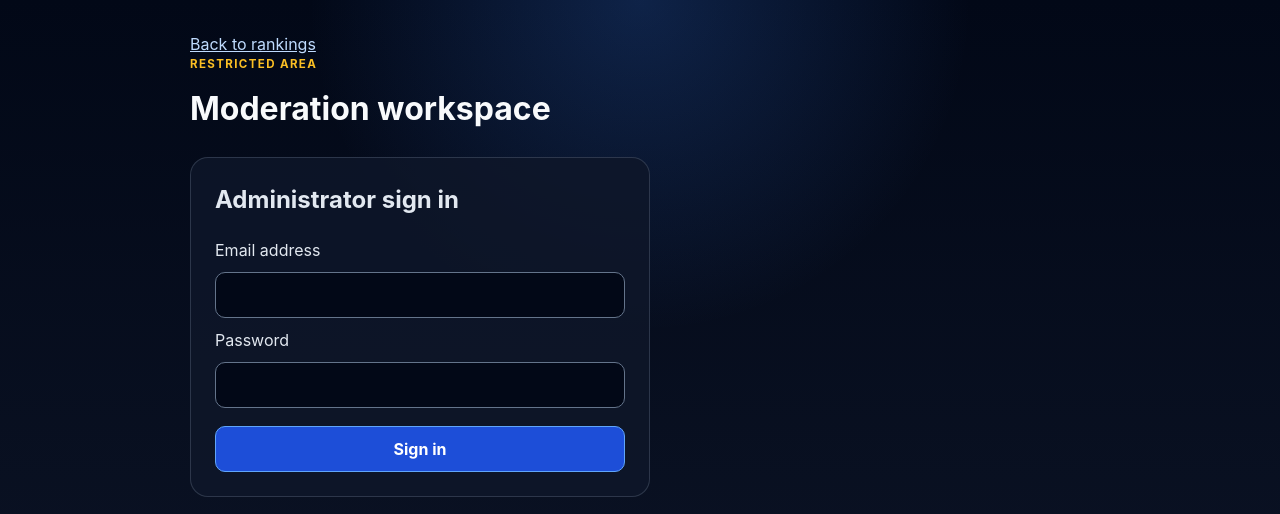
it: AdminPage › checks access again after a successful sign in
In the field labelled "Email address": [420, 295] box [215, 272, 625, 318], type "admin@example.com"
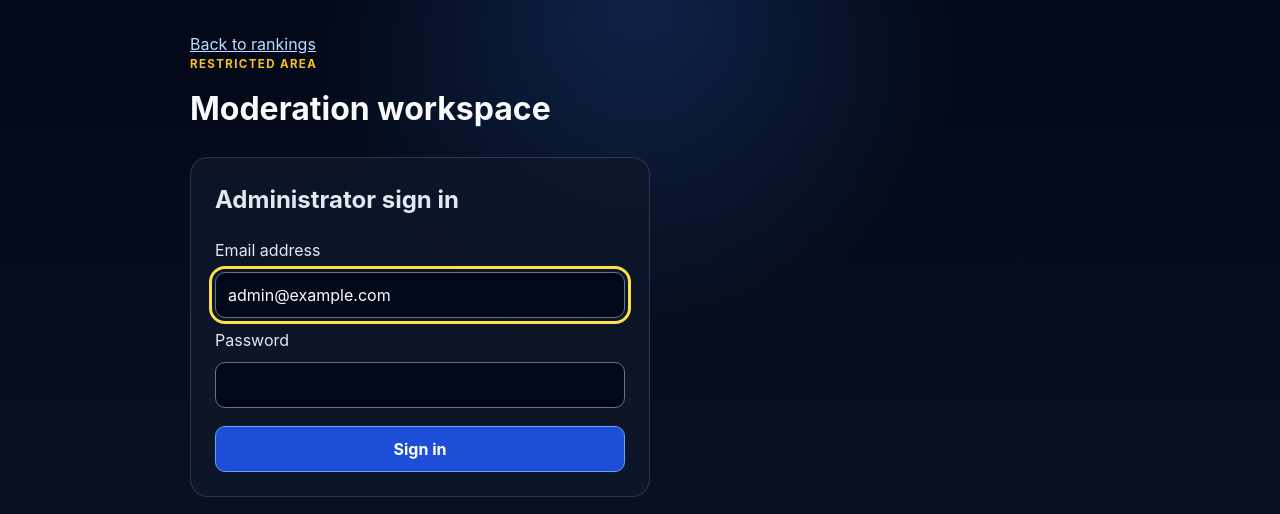
In the password field labelled "Password": [420, 385] box [215, 362, 625, 408], type "secure password"
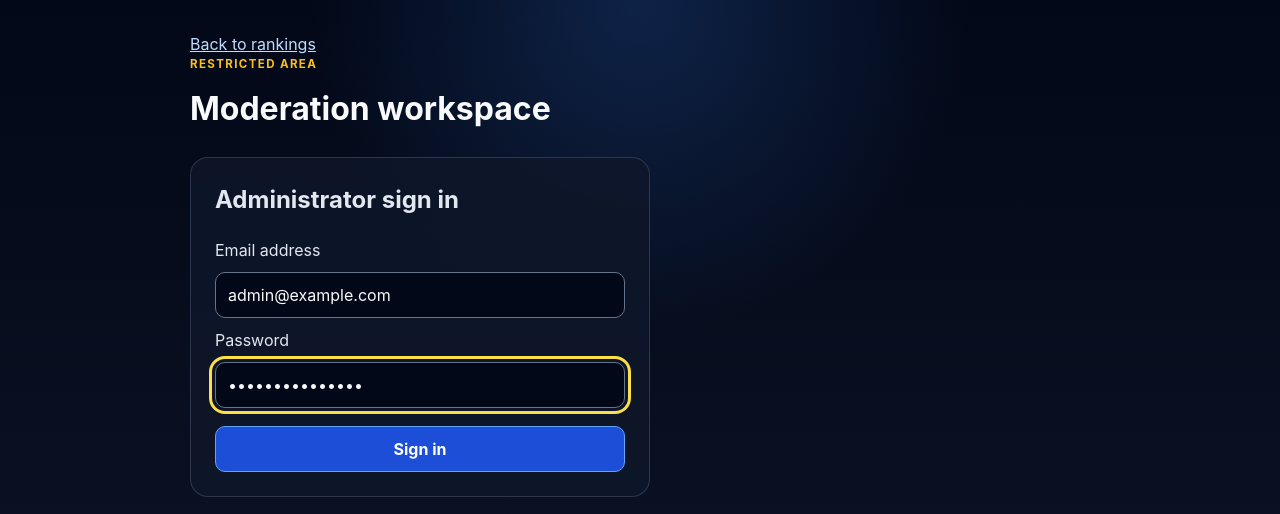
Click the button "Sign in": [420, 449] box [215, 426, 625, 472]
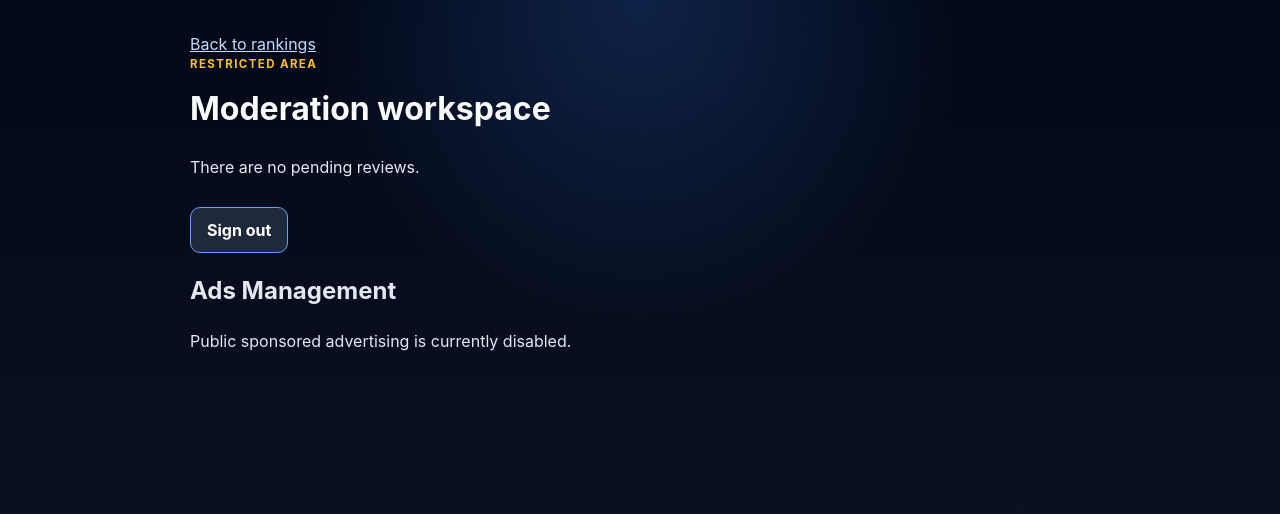
Now the text "There are no pending reviews." is shown, box [190, 157, 420, 177]
